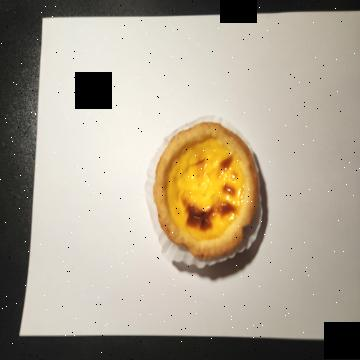EggTart: (154, 119, 259, 260)
